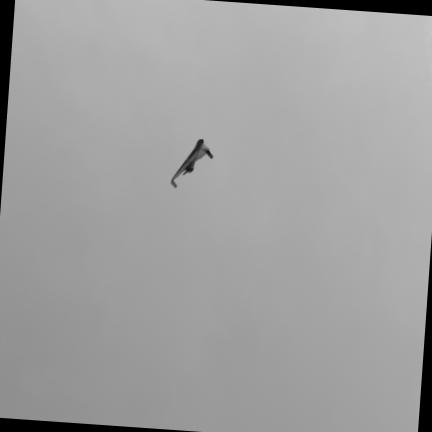Shahed: (170, 138, 211, 185)
